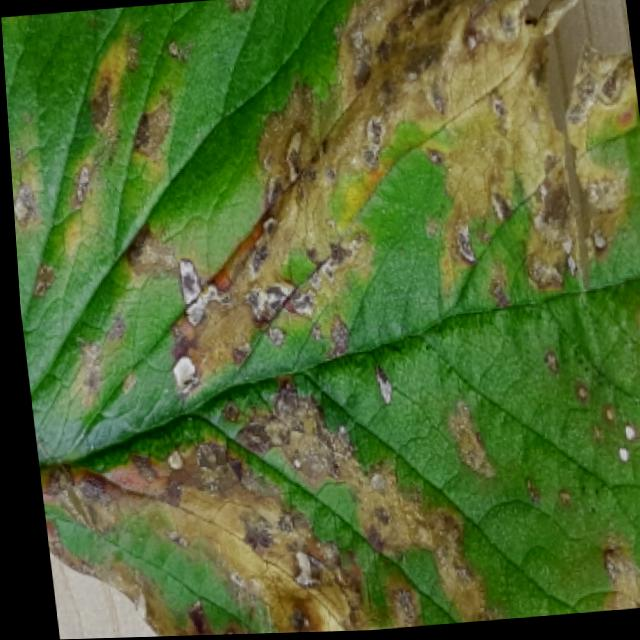Angular Leafspot: (1, 0, 640, 637)
